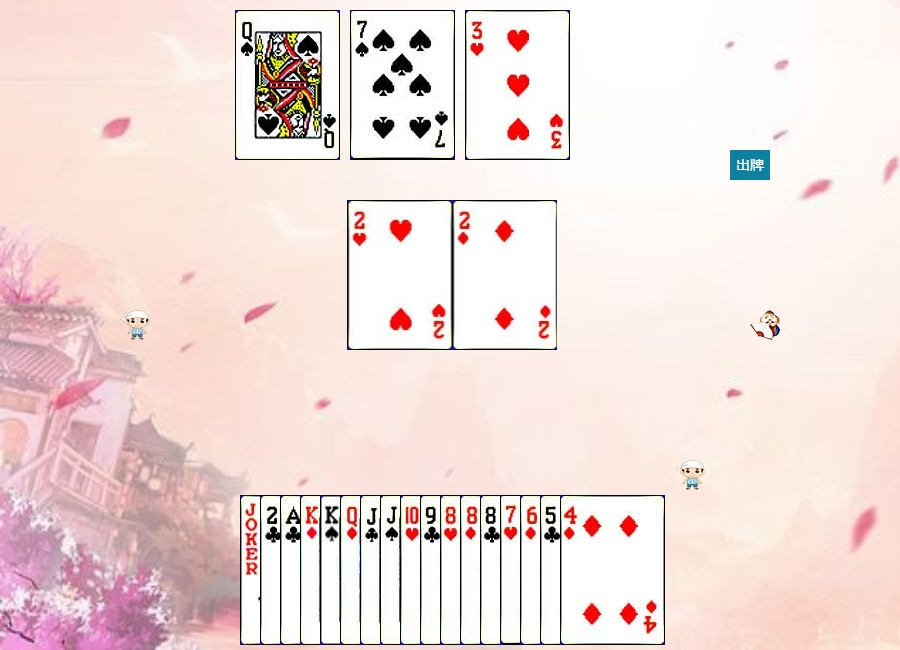10~3: (400, 495, 505, 645)
11~2: (360, 495, 465, 645)
11~4: (380, 495, 485, 645)
12~1: (340, 495, 445, 645)
12~4: (235, 10, 340, 160)
13~1: (300, 495, 405, 645)
13~4: (320, 495, 425, 645)
14~2: (280, 495, 385, 645)
15~1: (453, 200, 558, 350)
15~2: (260, 495, 365, 645)
15~3: (348, 200, 453, 350)
18~4: (240, 495, 345, 645)
3~3: (465, 10, 570, 160)
4~1: (560, 495, 665, 645)
5~2: (540, 495, 645, 645)
6~1: (520, 495, 625, 645)
7~3: (500, 495, 605, 645)
7~4: (350, 10, 455, 160)
8~1: (460, 495, 565, 645)
8~2: (480, 495, 585, 645)
8~3: (440, 495, 545, 645)
9~2: (420, 495, 525, 645)
